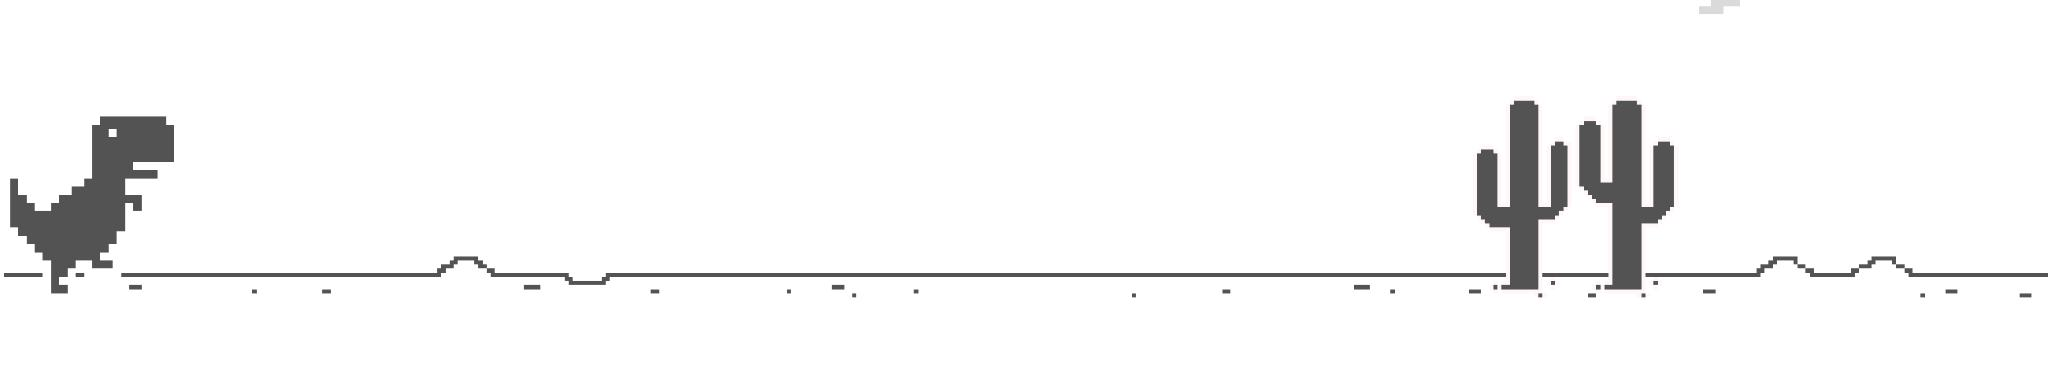6: (7, 108, 178, 298)
pterodactyl: (1471, 94, 1680, 300)
